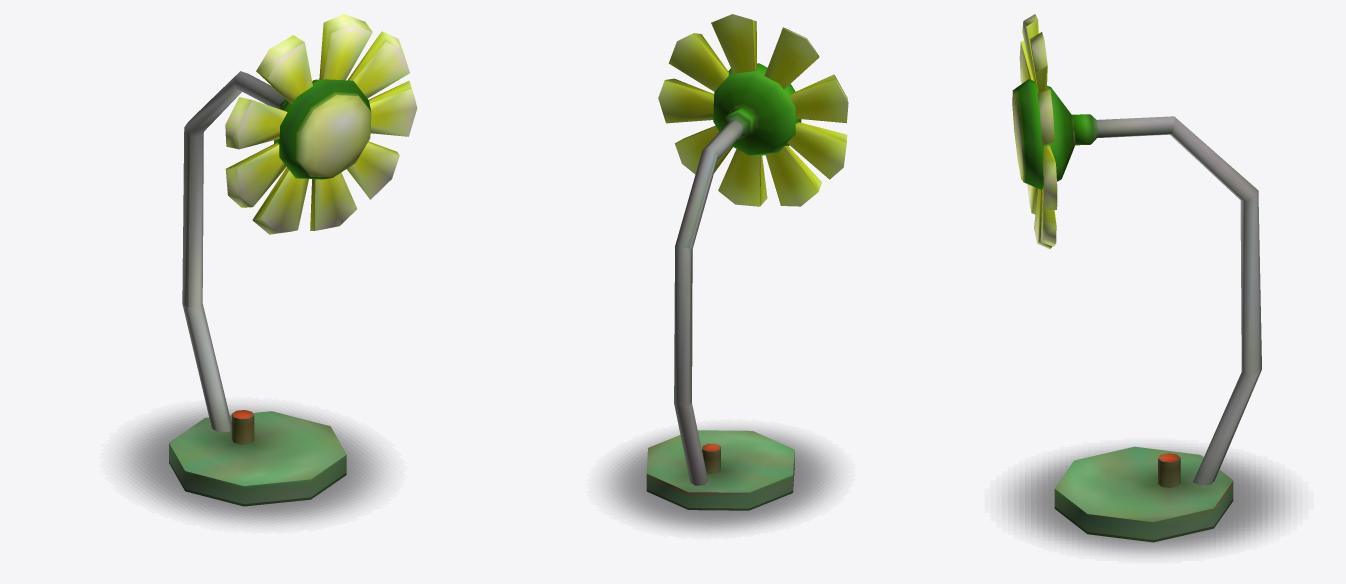
Rendered from bugRoomDaisyLamp1.glb.
3 views of the same model, side by side, from view 1: azimuth 30°, elevation 25°; view 2: azimuth 150°, elevation 25°; view 3: azimuth 270°, elevation 25° (orthographic). The views are drawn at different scales.
Visible parts, largest first — view 1: LampBase, lampShadow5, LampStem, LampBulb, Petal1, Petal9, Petal7, Petal2, Petal8, Petal6, Petal3, Petal5 (+1 smaller); view 2: LampBase, lampShadow5, LampStem, LampBulb, Petal6, Petal7, Petal2, Petal8, Petal5, Petal1, Petal3, Petal9 (+1 smaller); view 3: LampBase, lampShadow5, LampStem, LampBulb, Petal3, Petal1, Petal2, Petal4, Petal9.
Boxes of the visible parts, x1,y1,x2,y2 form: LampBase: (169, 410, 346, 506); lampShadow5: (120, 407, 385, 524); LampStem: (182, 71, 287, 432); LampBulb: (274, 79, 371, 179); Petal1: (319, 14, 372, 80); Petal9: (256, 35, 312, 103); Petal7: (225, 142, 286, 207); Petal2: (348, 31, 409, 98); Petal8: (225, 97, 287, 149); Petal6: (252, 167, 308, 234); Petal3: (368, 80, 417, 136); Petal5: (310, 172, 357, 230); LampBase: (646, 430, 794, 510); lampShadow5: (604, 427, 837, 531); LampStem: (674, 106, 755, 485); LampBulb: (713, 63, 801, 155); Petal6: (765, 145, 821, 206); Petal7: (787, 122, 847, 179); Petal2: (668, 33, 728, 91); Petal8: (788, 74, 848, 123); Petal5: (718, 149, 767, 206); Petal1: (711, 14, 757, 73); Petal3: (658, 78, 714, 123); Petal9: (764, 27, 819, 89); LampBase: (1054, 446, 1233, 542); lampShadow5: (1007, 447, 1290, 554); LampStem: (1071, 114, 1261, 485); LampBulb: (1012, 79, 1075, 189); Petal3: (1042, 145, 1057, 209); Petal1: (1029, 32, 1047, 92); Petal2: (1037, 89, 1054, 145); Petal4: (1040, 182, 1056, 246); Petal9: (1022, 14, 1038, 83).
Size of the model in its own units: 3.25 by 5.2 by 3.61.
2 materials, 2 textured.
